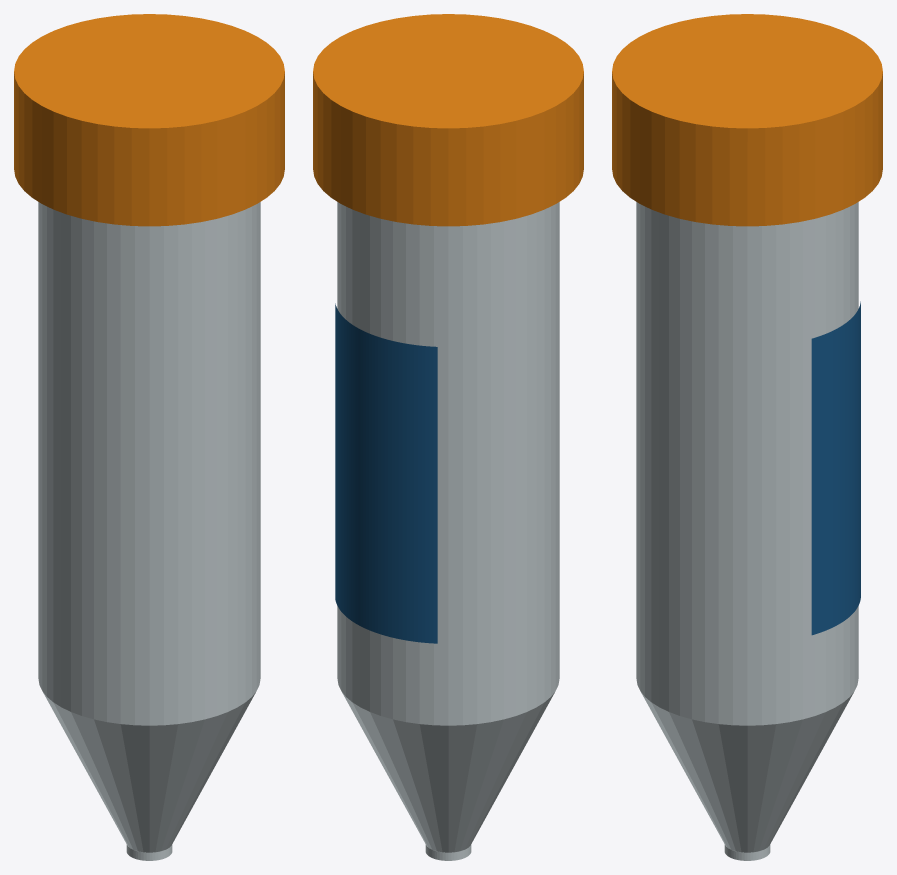
File: reagent_tube_black_03.glb
The picture shows the model from 3 angles, left to right: view 1: azimuth 30°, elevation 25°; view 2: azimuth 150°, elevation 25°; view 3: azimuth 270°, elevation 25°; orthographic projection.
Visible parts, largest first — view 1: World_Lab_reagent_tube_black_03_CleanTube, World_Lab_reagent_tube_black_03_CleanCap; view 2: World_Lab_reagent_tube_black_03_CleanTube, World_Lab_reagent_tube_black_03_CleanCap, World_Lab_reagent_tube_black_03_AppearanceBand; view 3: World_Lab_reagent_tube_black_03_CleanTube, World_Lab_reagent_tube_black_03_CleanCap, World_Lab_reagent_tube_black_03_AppearanceBand.
Part boxes in pixels (x1=…): World_Lab_reagent_tube_black_03_CleanTube: x1=38, y1=202, x2=260, y2=860; World_Lab_reagent_tube_black_03_CleanCap: x1=14, y1=14, x2=284, y2=226; World_Lab_reagent_tube_black_03_CleanTube: x1=337, y1=202, x2=559, y2=860; World_Lab_reagent_tube_black_03_CleanCap: x1=313, y1=14, x2=583, y2=226; World_Lab_reagent_tube_black_03_AppearanceBand: x1=335, y1=303, x2=437, y2=643; World_Lab_reagent_tube_black_03_CleanTube: x1=636, y1=202, x2=858, y2=860; World_Lab_reagent_tube_black_03_CleanCap: x1=612, y1=14, x2=882, y2=226; World_Lab_reagent_tube_black_03_AppearanceBand: x1=811, y1=301, x2=860, y2=635.
Bounding box in the file's own units: 0.0356 × 0.113 × 0.0356.
